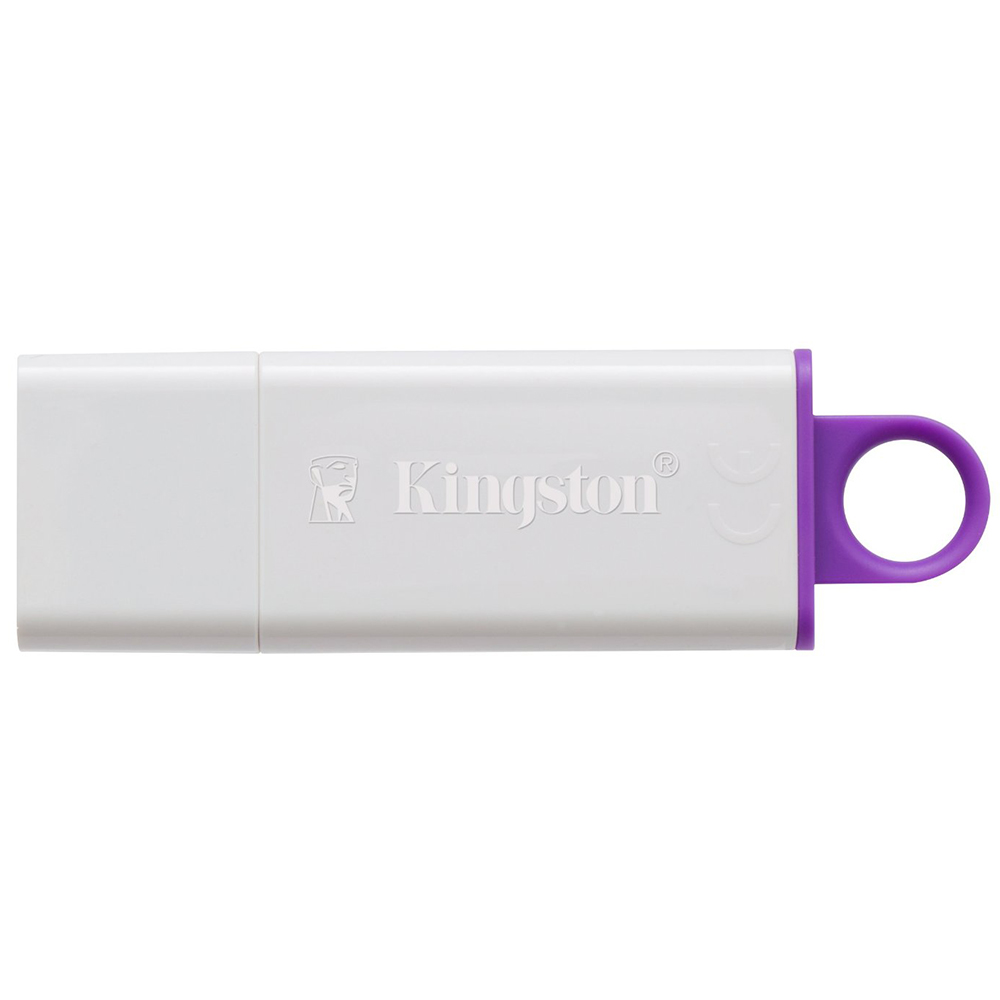Kingston: (289, 422, 690, 536)
